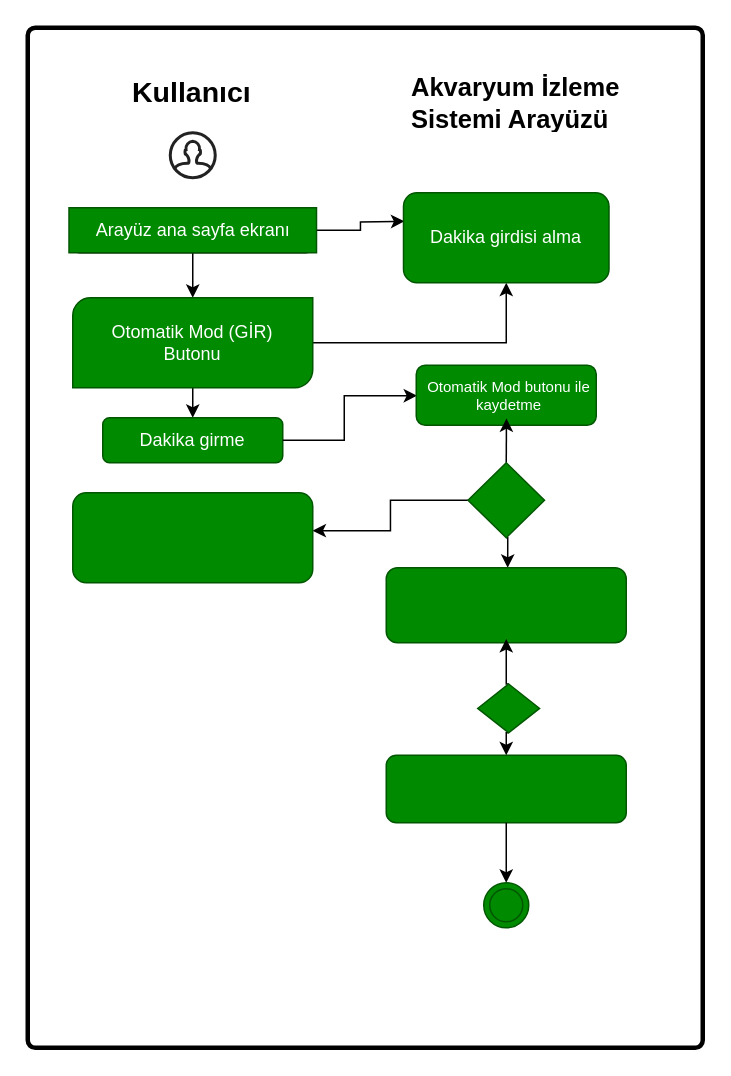
Image size: 731x1076. Some labels were removed from this diagram. Here are the shapes that lost their labels. From the top down, the centre of each, then its label:
At point (192, 537): "Girilen dakika süresince beklemek".
At point (505, 604): "Kullanıcıdan alınan süre sonunda yemleme sisteminin çalışması".
At point (505, 788): "Sistemin yemleme işlemini gerçekleştirdikten sonra durdurulması".
